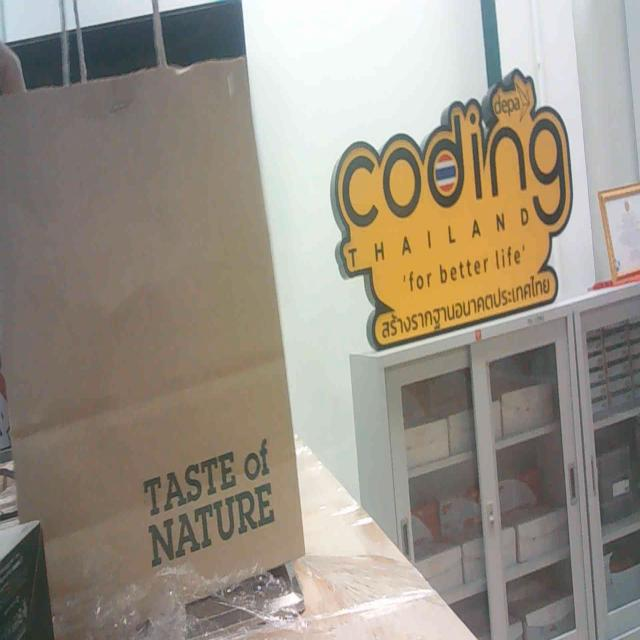bag: (0, 50, 306, 608)
